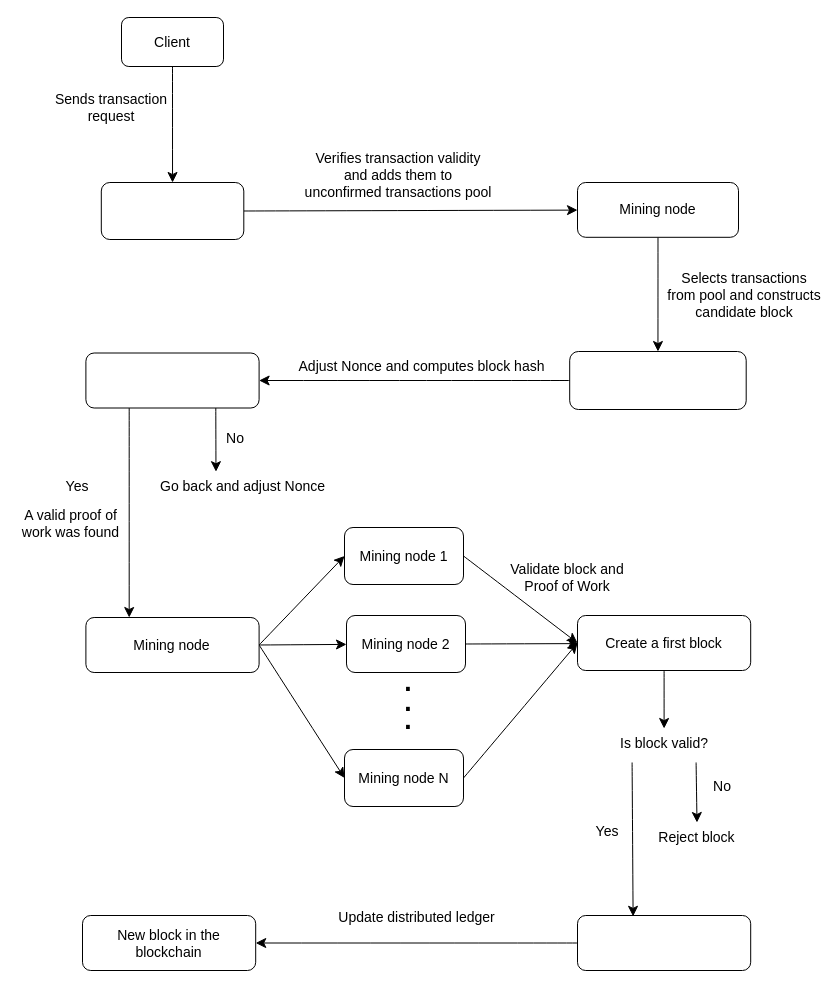
Image size: 840x988. Some labels were removed from this diagram. The centre of each missing label's shape, as x and y in pixels:
Block added to local blockchain: pixel 663 942
Full node: pixel 172 211
Hash < Target difficulty?: pixel 172 380
Iterative hashing process: pixel 657 380
